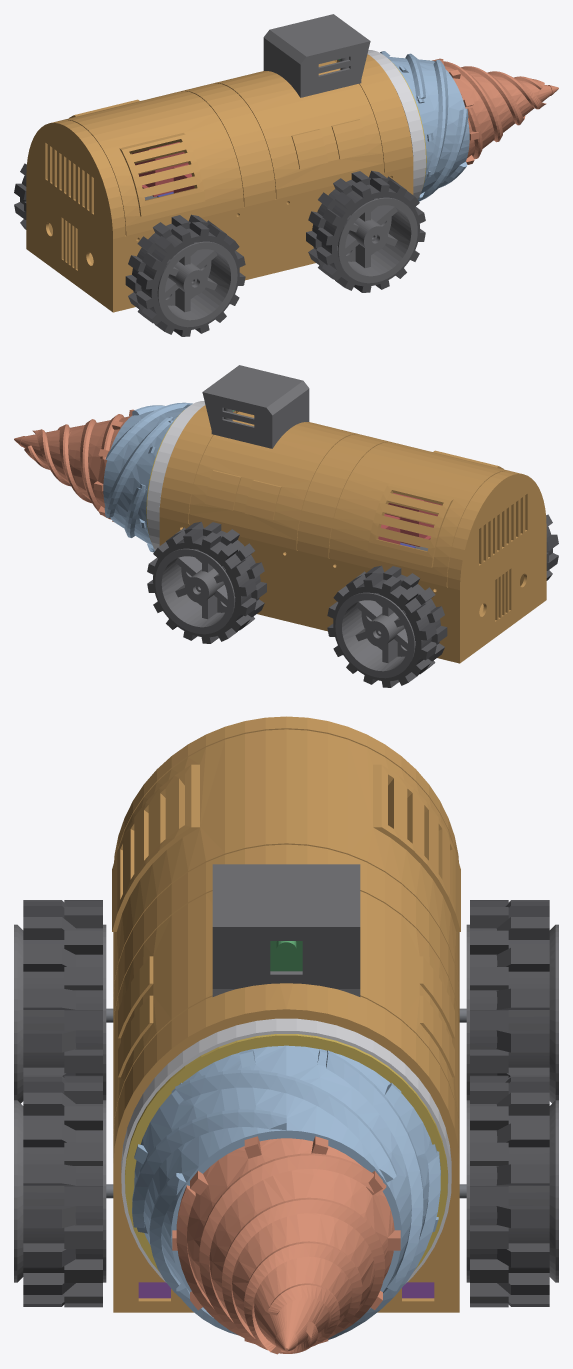
The model's file is Ktopo.glb.
3 views of the same model, one above another, from view 1: azimuth 30°, elevation 25°; view 2: azimuth 150°, elevation 25°; view 3: azimuth 270°, elevation 25° (orthographic). The views are drawn at different scales.
Visible parts, largest first — view 1: hull_rear, hull_front, chassis_rear, cab, rear_cutter, wheel_tire_TPU_4, wheel_tire_TPU_2, wheel_rim_2, wheel_rim_4, front_cone, chassis_front, led_diffuser (+2 smaller); view 2: hull_rear, hull_front, chassis_rear, cab, rear_cutter, wheel_tire_TPU_3, wheel_tire_TPU_1, wheel_rim_1, wheel_rim_3, front_cone, chassis_front, led_diffuser (+2 smaller); view 3: hull_rear, hull_front, front_cone, rear_cutter, wheel_tire_TPU_1, wheel_tire_TPU_2, cab, wheel_tire_TPU_3, wheel_tire_TPU_4, chassis_front, led_diffuser, collar_carrier (+5 smaller).
Part boxes in pixels (x1,y1,x2,y2): hull_rear: [26, 86, 263, 239]; hull_front: [200, 54, 413, 202]; chassis_rear: [26, 153, 263, 312]; cab: [263, 14, 370, 97]; rear_cutter: [380, 51, 469, 201]; wheel_tire_TPU_4: [125, 214, 245, 336]; wheel_tire_TPU_2: [306, 170, 425, 292]; wheel_rim_2: [337, 197, 417, 283]; wheel_rim_4: [157, 241, 237, 327]; front_cone: [432, 58, 558, 164]; chassis_front: [263, 166, 413, 275]; led_diffuser: [367, 50, 425, 199]; hull_rear: [309, 437, 546, 590]; hull_front: [159, 405, 372, 553]; chassis_rear: [309, 505, 546, 663]; cab: [202, 365, 309, 448]; rear_cutter: [103, 402, 192, 552]; wheel_tire_TPU_3: [327, 565, 447, 687]; wheel_tire_TPU_1: [147, 521, 266, 643]; wheel_rim_1: [155, 548, 235, 634]; wheel_rim_3: [335, 592, 415, 678]; front_cone: [14, 409, 134, 521]; chassis_front: [159, 517, 309, 626]; led_diffuser: [147, 401, 205, 550]; hull_rear: [112, 716, 460, 1016]; hull_front: [113, 863, 459, 1166]; front_cone: [172, 1136, 400, 1354]; rear_cutter: [132, 1045, 440, 1339]; wheel_tire_TPU_1: [470, 1075, 549, 1307]; wheel_tire_TPU_2: [23, 1075, 102, 1307]; cab: [212, 864, 360, 996]; wheel_tire_TPU_3: [470, 900, 549, 1077]; wheel_tire_TPU_4: [23, 900, 102, 1077]; chassis_front: [113, 1166, 459, 1312]; led_diffuser: [121, 1018, 451, 1283]; collar_carrier: [125, 1034, 447, 1271].
Bounding box in the file's own units: 0.4882 × 0.196 × 0.236.
